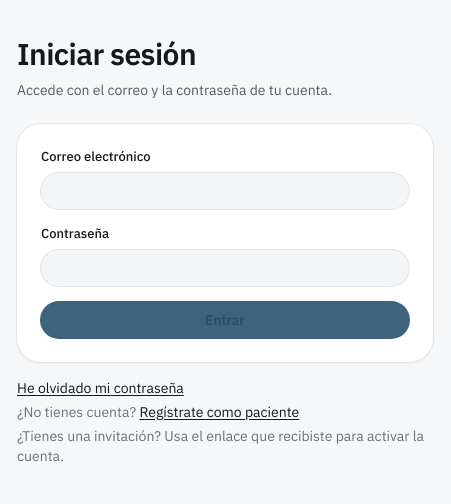
Test: Arranque y restauracion de sesion › el login fallido muestra el mensaje neutro del backend
This screenshot has width=451, height=504.
Expected: the heading "Iniciar sesión" is shown, [17, 34, 196, 73]
Type "ana@clinica.com" into the field labelled "Correo electrónico" at (225, 191), box [41, 173, 409, 209]
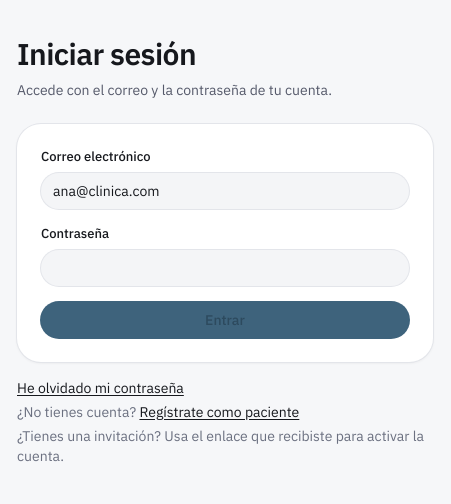
Type "mala" into the password field labelled "Contraseña" at (225, 268), box [41, 250, 409, 286]
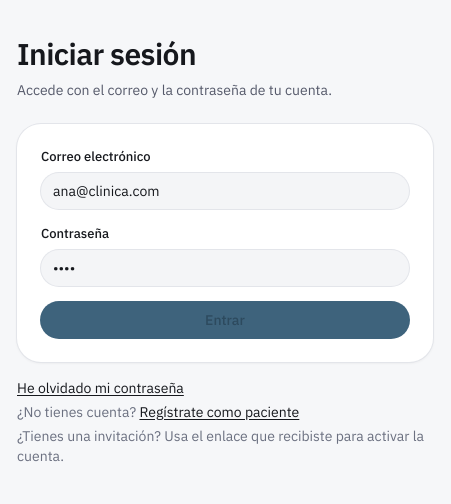
Click the button "Entrar" at (225, 320), box [41, 302, 409, 338]
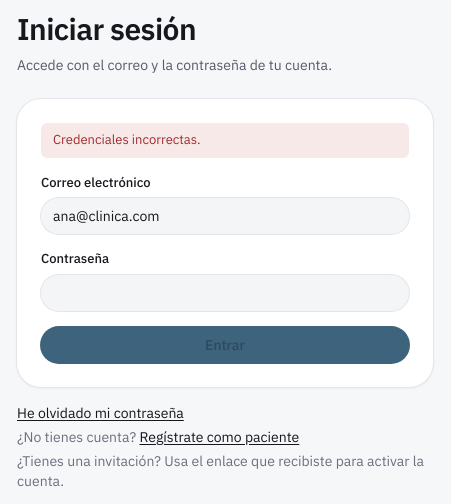
Expected: the message reads "Credenciales incorrectas.", [53, 131, 201, 148]
